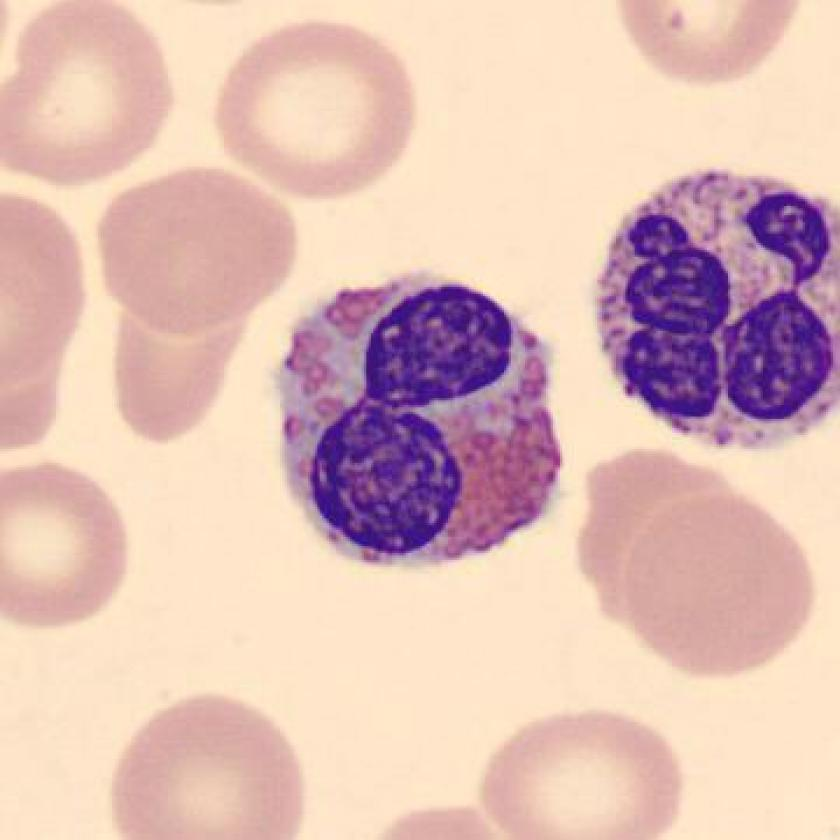eosinophil: (256, 258, 578, 584)
